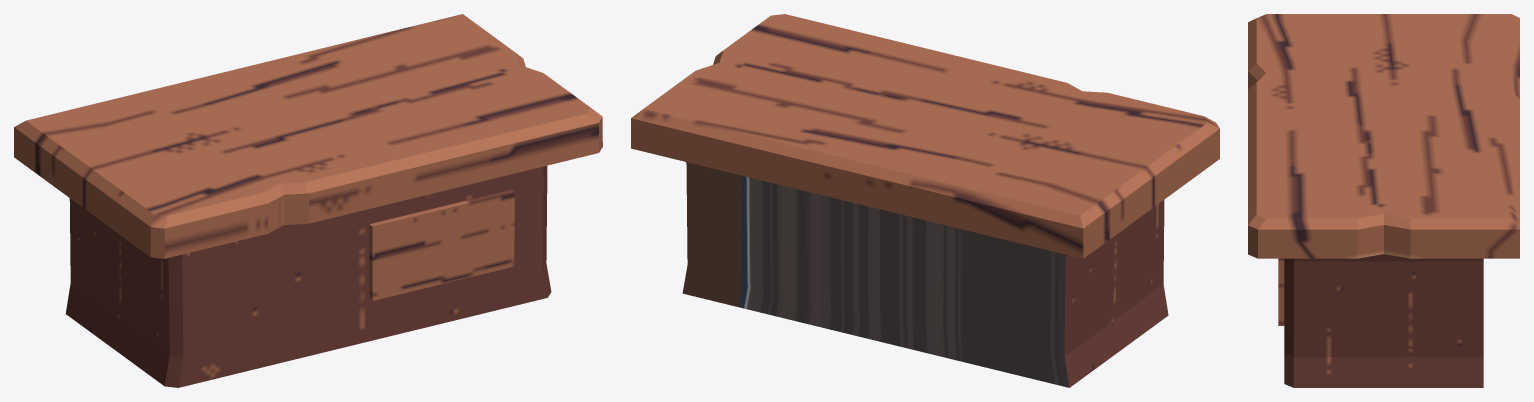
The model's file is GabineteMadeira1.fbx.
3 views of the same model, side by side, from view 1: azimuth 30°, elevation 25°; view 2: azimuth 150°, elevation 25°; view 3: azimuth 270°, elevation 25° (orthographic). The views are drawn at different scales.
Visible parts, largest first — view 1: GabineteMadeira1; view 2: GabineteMadeira1; view 3: GabineteMadeira1.
Boxes of the visible parts, box(x1,y1,x2,y2) form: GabineteMadeira1: box(14, 14, 602, 387); GabineteMadeira1: box(631, 14, 1219, 387); GabineteMadeira1: box(1248, 14, 1519, 387).
Size of the model in its own units: 212 by 115 by 84.72.
